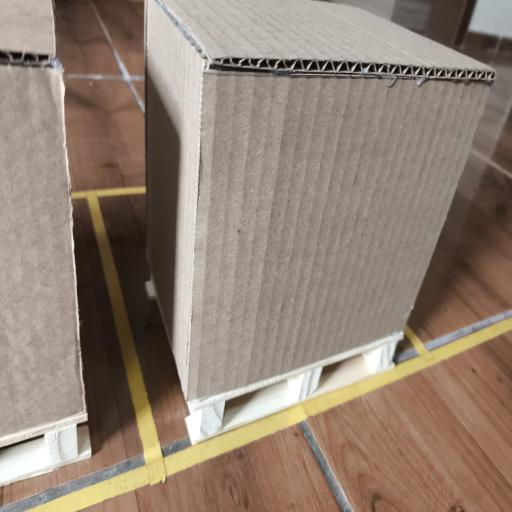pallet: (186, 333, 403, 444), (186, 334, 402, 444), (0, 424, 91, 486)
